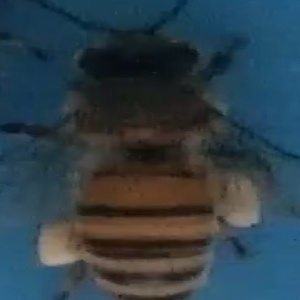bee: (17, 4, 290, 300)
